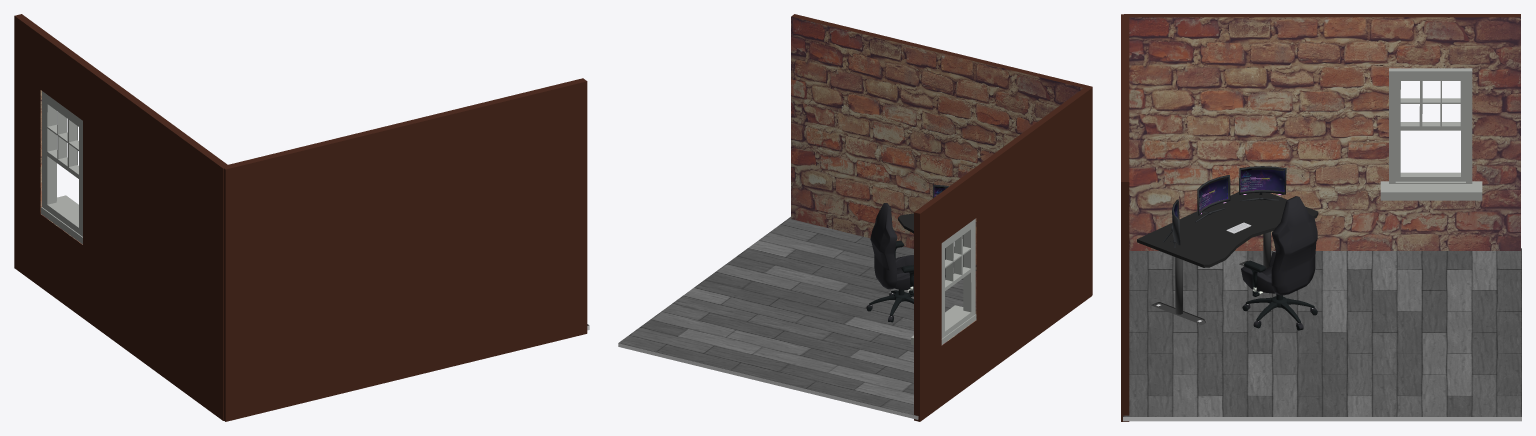
The model's file is Bedroom2.gltf.
The picture shows the model from 3 angles, left to right: view 1: azimuth 30°, elevation 25°; view 2: azimuth 150°, elevation 25°; view 3: azimuth 270°, elevation 25°; orthographic projection. The views are drawn at different scales.
Parts seen in each view (by area): view 1: Cube.001, Cube.002, Window.001; view 2: Cube.001, Cube.002, Cube, Window.001, Mettalique.002; view 3: Cube.002, Cube, Window.001, gamingTable, Mettalique.002, Cube.001, Screen.001, Screen.
Boxes of the visible parts, box(x1,y1,x2,y2) form: Cube.001: box(224, 78, 587, 421); Cube.002: box(14, 14, 230, 420); Window.001: box(41, 91, 82, 244); Cube.001: box(791, 14, 1092, 294); Cube.002: box(914, 86, 1092, 421); Cube: box(618, 217, 963, 419); Window.001: box(911, 218, 976, 345); Mettalique.002: box(866, 203, 913, 322); Cube.002: box(1124, 14, 1520, 250); Cube: box(1123, 248, 1521, 421); Window.001: box(1380, 68, 1482, 200); gamingTable: box(1137, 192, 1318, 325); Mettalique.002: box(1241, 196, 1317, 330); Cube.001: box(1121, 14, 1129, 421); Screen.001: box(1238, 166, 1286, 201); Screen: box(1195, 175, 1230, 222).
Bounding box in the file's own units: 11.64 × 7.68 × 11.63.
31 materials, 9 textured.
